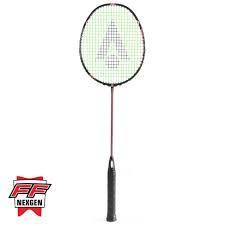badminton racket: (79, 3, 144, 220)
